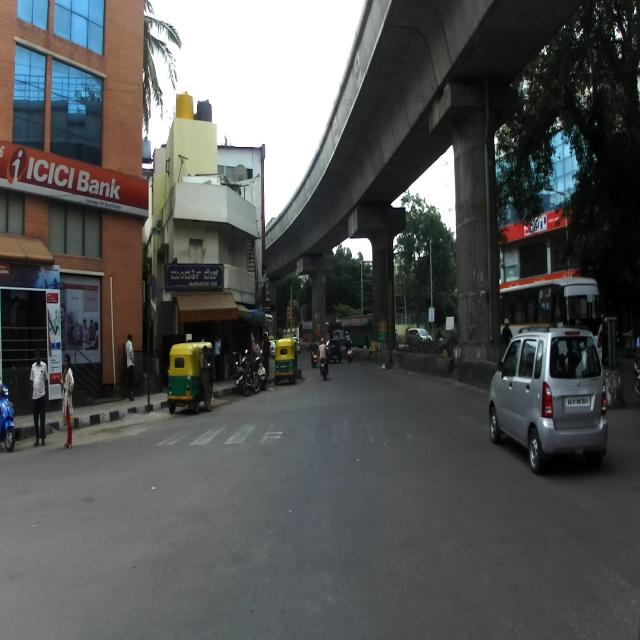autorickshaw: (274, 338, 298, 388)
bus: (499, 268, 603, 368)
car: (488, 323, 608, 475)
motorcycle: (238, 362, 259, 395)
scooter: (0, 378, 21, 462), (253, 349, 267, 394)
